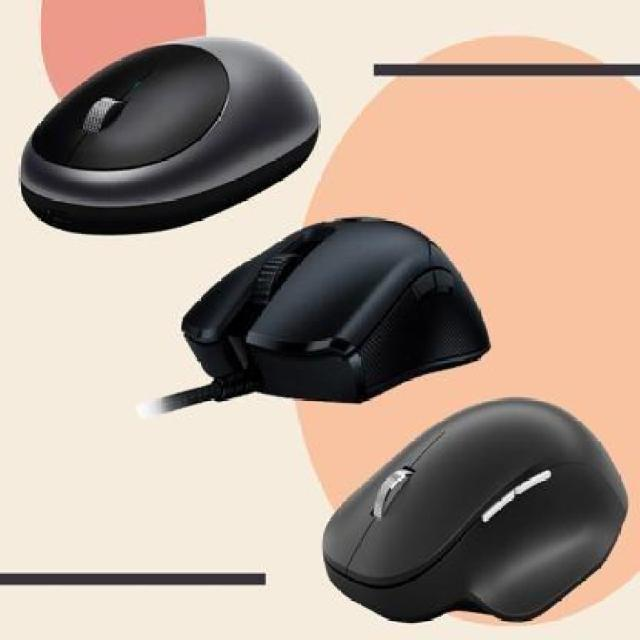not trash: (317, 398, 632, 624), (170, 213, 488, 407), (12, 36, 322, 235)
